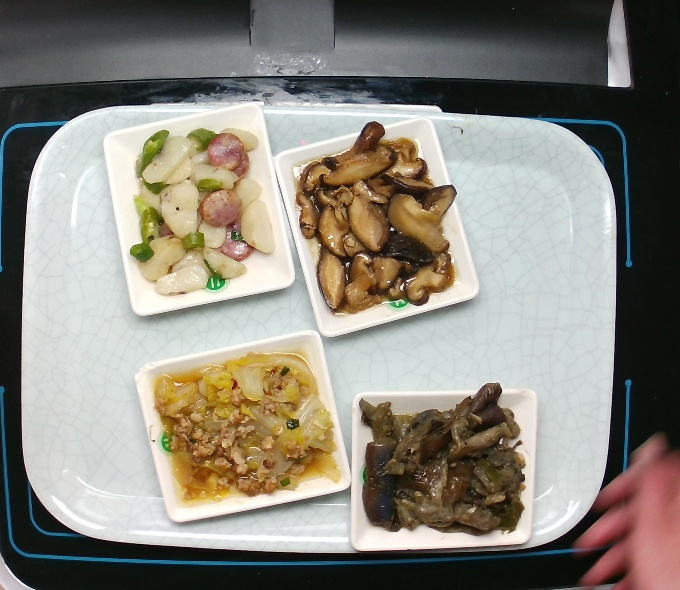wcq-MaTiGuo: (126, 123, 277, 298)
wcq-MoGu: (294, 133, 457, 315)
wcq-QieZi: (355, 382, 528, 534)
wcq-RouMoBaiCai: (154, 351, 335, 501)
